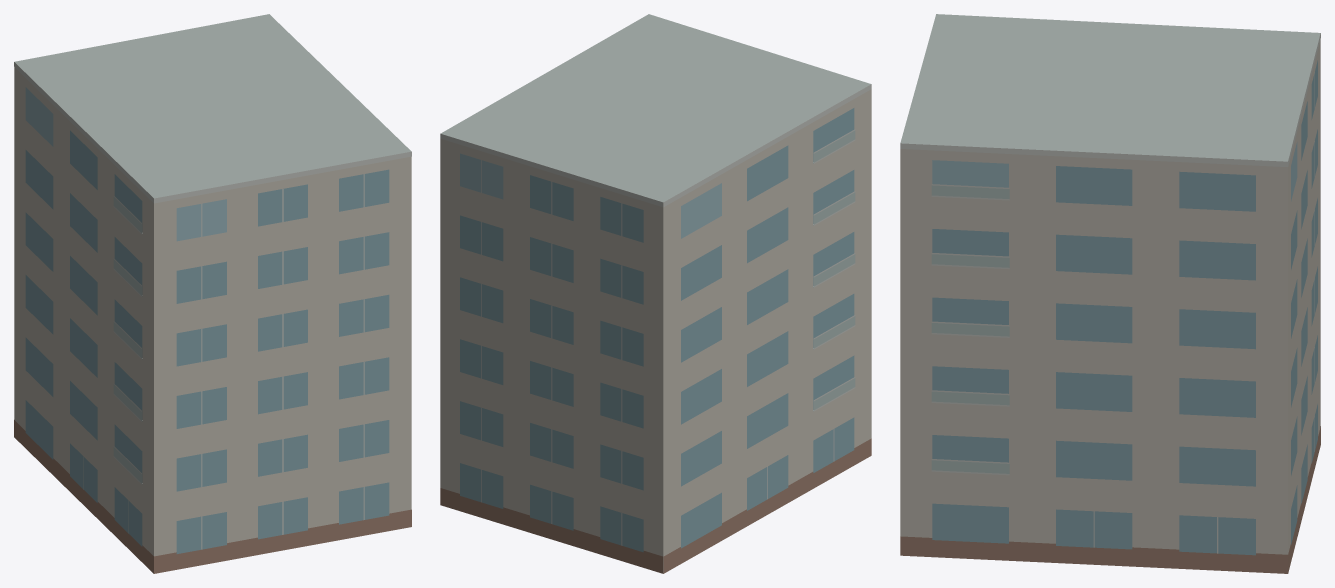
Rendered from survey-upis-33012129.glb.
3 renders of one model, left to right at view 1: azimuth 30°, elevation 25°; view 2: azimuth 150°, elevation 25°; view 3: azimuth 270°, elevation 25°, orthographic. The views are drawn at different scales.
Parts seen in each view (by area): view 1: survey-upis-33012129.tmp; view 2: survey-upis-33012129.tmp; view 3: survey-upis-33012129.tmp.
Part boxes in pixels (<box>): survey-upis-33012129.tmp: <box>14,14,411,573</box>; survey-upis-33012129.tmp: <box>440,14,871,573</box>; survey-upis-33012129.tmp: <box>900,14,1320,573</box>.
Bounding box in the file's own units: 14.07 × 18.3 × 16.93.
